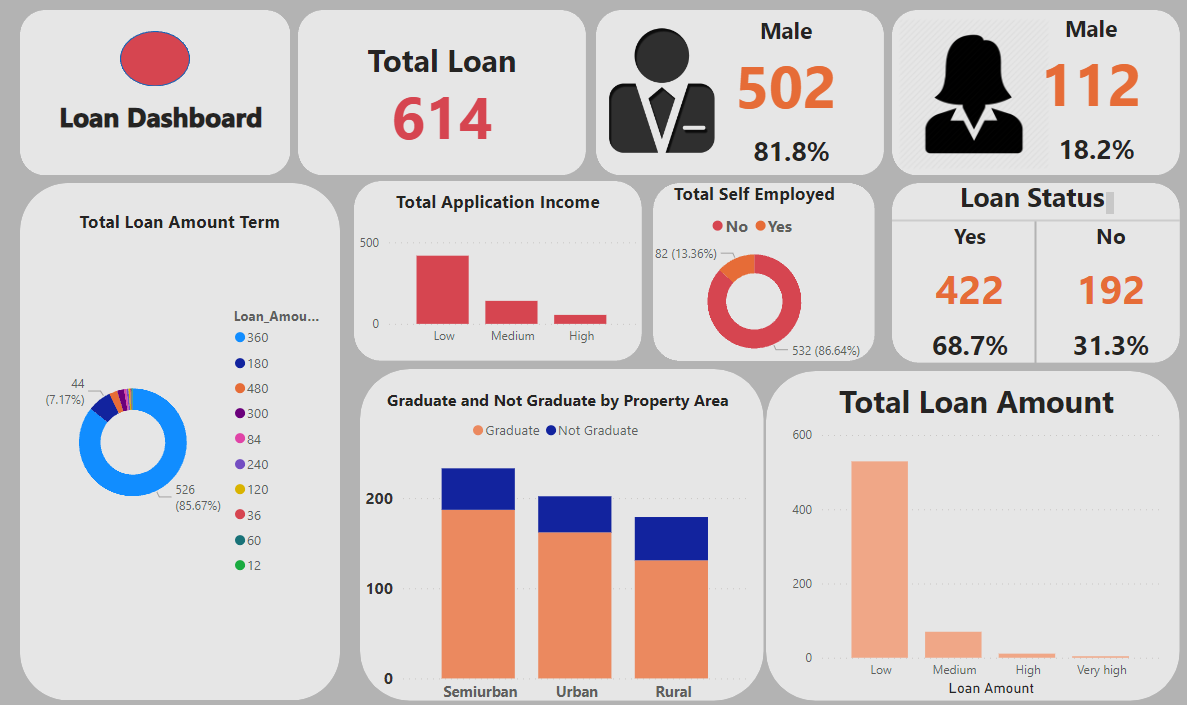

The page's visual inventory and layout, read from the dashboard file:
{"tool":"powerbi","page":{"name":"Page 1","canvas":[1280,720],"ordinal":0},"visuals":[{"type":"textbox","box":[60.3,107.1,254.1,53.5],"z":8000},{"type":"shape","box":[154.8,38.9,70.1,55.5],"z":9000},{"type":"card","fields":{"Values":["All measure.% Male"]},"box":[706.7,120.7,164.5,47.7],"z":11000},{"type":"card","title":"Male","fields":{"Values":["All measure.Male"]},"box":[706.7,20.4,148.9,93.4],"z":12000},{"type":"card","title":"Total Loan","fields":{"Values":["All measure.Total loan"]},"box":[338.7,51.6,218,109],"z":13000},{"type":"image","box":[581.1,17.5,153.8,166.4],"z":14000},{"type":"card","fields":{"Values":["All measure.% Female"]},"box":[1025,107.1,183,63.3],"z":15000},{"type":"card","title":"Female","fields":{"Values":["All measure.Female"]},"box":[1034.7,15.6,163.5,91.5],"z":16000},{"type":"image","box":[911.1,9.7,162.6,161.6],"z":17000},{"type":"columnChart","title":"Graduate and Not Graduate","fields":{"Y":["All measure.Graduate","All measure.Not Graduate"],"Category":["loan_data.Property_Area"]},"box":[369.9,397.1,396.2,323.2],"z":18000},{"type":"columnChart","title":"Total Application Income","fields":{"Category":["loan_data.Application Income"],"Y":["CountNonNull(loan_data.Application Income)"]},"box":[457.5,202.5,287.1,165.5],"z":19000},{"type":"donutChart","title":"Total Self Employed","fields":{"Category":["loan_data.Self_Employed"],"Y":["CountNonNull(loan_data.Self_Employed)"]},"box":[32.1,211.2,282.3,185.9],"z":20000},{"type":"donutChart","title":"Total Loan Amount Term","fields":{"Y":["CountNonNull(loan_data.Loan_Amount_Term)"],"Category":["loan_data.Loan_Amount_Term"]},"box":[6.8,404.9,331.9,315.4],"z":21000},{"type":"columnChart","title":"Total Loan Amount","fields":{"Y":["CountNonNull(loan_data.Loan Amount)"],"Category":["loan_data.Loan Amount"]},"box":[879.3,387.7,378.7,320.7],"z":23000},{"type":"shape","box":[983.6,226.1,27,142],"z":24000},{"type":"card","fields":{"Values":["All measure.% Yes"]},"box":[884.6,319.1,94,63],"z":25000},{"type":"card","title":"Yes","fields":{"Values":["All measure.Yes"]},"box":[879.9,225.8,99.3,105.1],"z":26000},{"type":"shape","box":[853.6,217.1,288,17],"z":27000},{"type":"textbox","box":[906.2,175.2,183,47.7],"z":28000},{"type":"card","fields":{"Values":["All measure.% No"]},"box":[1025.6,319.1,94,63],"z":29000},{"type":"card","title":"No","fields":{"Values":["All measure.No"]},"box":[1022.6,226.1,100,105],"z":30000}]}

Visuals, with their boxes in screenshot pixels (x1, y1, x2, y2):
textbox: {"left": 0, "top": 120, "right": 233, "bottom": 171}
shape: {"left": 82, "top": 55, "right": 148, "bottom": 108}
card - All measure.% Male: {"left": 605, "top": 133, "right": 761, "bottom": 178}
"Male" card: {"left": 605, "top": 38, "right": 746, "bottom": 126}
"Total Loan" card: {"left": 256, "top": 67, "right": 463, "bottom": 171}
image: {"left": 486, "top": 35, "right": 632, "bottom": 193}
card - All measure.% Female: {"left": 907, "top": 120, "right": 1080, "bottom": 180}
"Female" card: {"left": 916, "top": 33, "right": 1071, "bottom": 120}
image: {"left": 799, "top": 28, "right": 953, "bottom": 181}
"Graduate and Not Graduate" columnChart: {"left": 286, "top": 395, "right": 661, "bottom": 701}
"Total Application Income" columnChart: {"left": 369, "top": 211, "right": 641, "bottom": 367}
"Total Self Employed" donutChart: {"left": 0, "top": 219, "right": 233, "bottom": 395}
"Total Loan Amount Term" donutChart: {"left": 0, "top": 402, "right": 256, "bottom": 701}
"Total Loan Amount" columnChart: {"left": 769, "top": 386, "right": 1128, "bottom": 690}
shape: {"left": 868, "top": 233, "right": 893, "bottom": 368}
card - All measure.% Yes: {"left": 774, "top": 321, "right": 863, "bottom": 381}
"Yes" card: {"left": 769, "top": 233, "right": 864, "bottom": 332}
shape: {"left": 744, "top": 224, "right": 1017, "bottom": 241}
textbox: {"left": 794, "top": 185, "right": 968, "bottom": 230}
card - All measure.% No: {"left": 908, "top": 321, "right": 997, "bottom": 381}
"No" card: {"left": 905, "top": 233, "right": 999, "bottom": 332}
